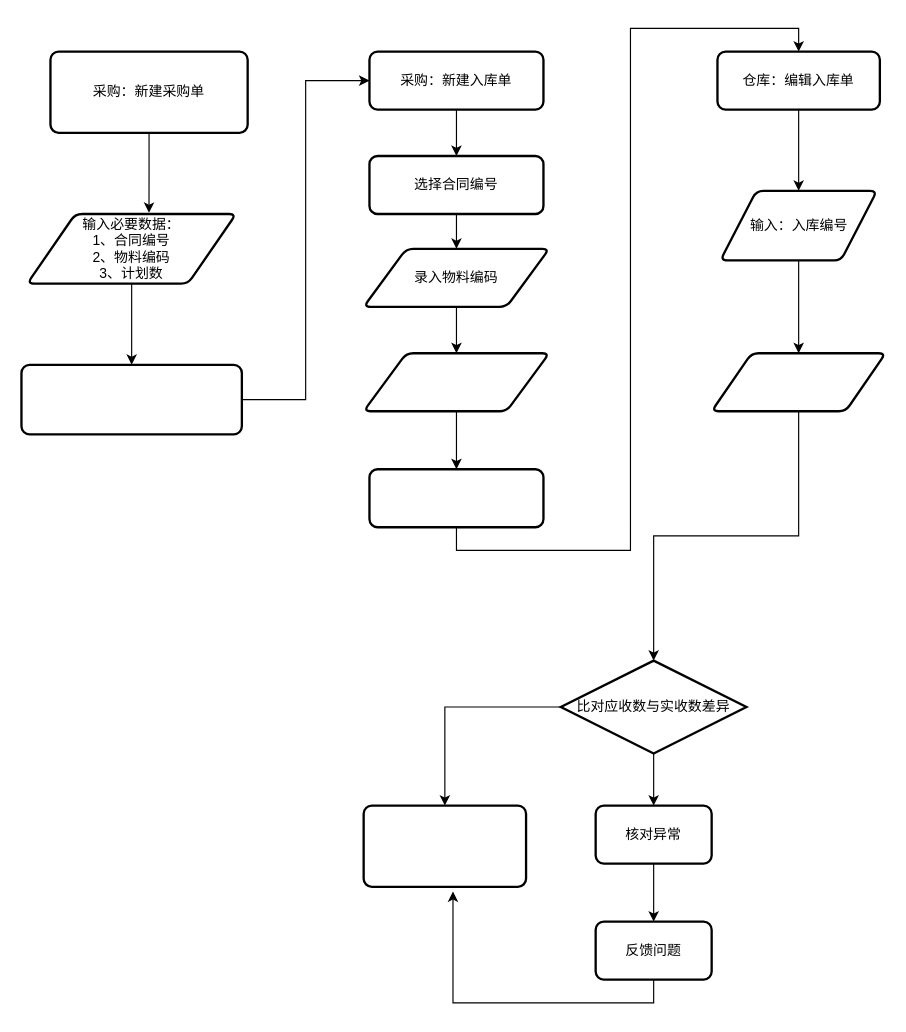
The diagram is 906 pixels wide and 1032 high, and some of its shapes have lost their labels. Here are the shapes that lost their labels. From the top down, the centre of each, then its label:
(131,399): 生成采购单 （唯一索引为：合同编号）
(456,381): 输入应收数
(798,381): 输入实收数
(456,497): 入库单生成成功
(444,845): 仓库：入库单审核通过
